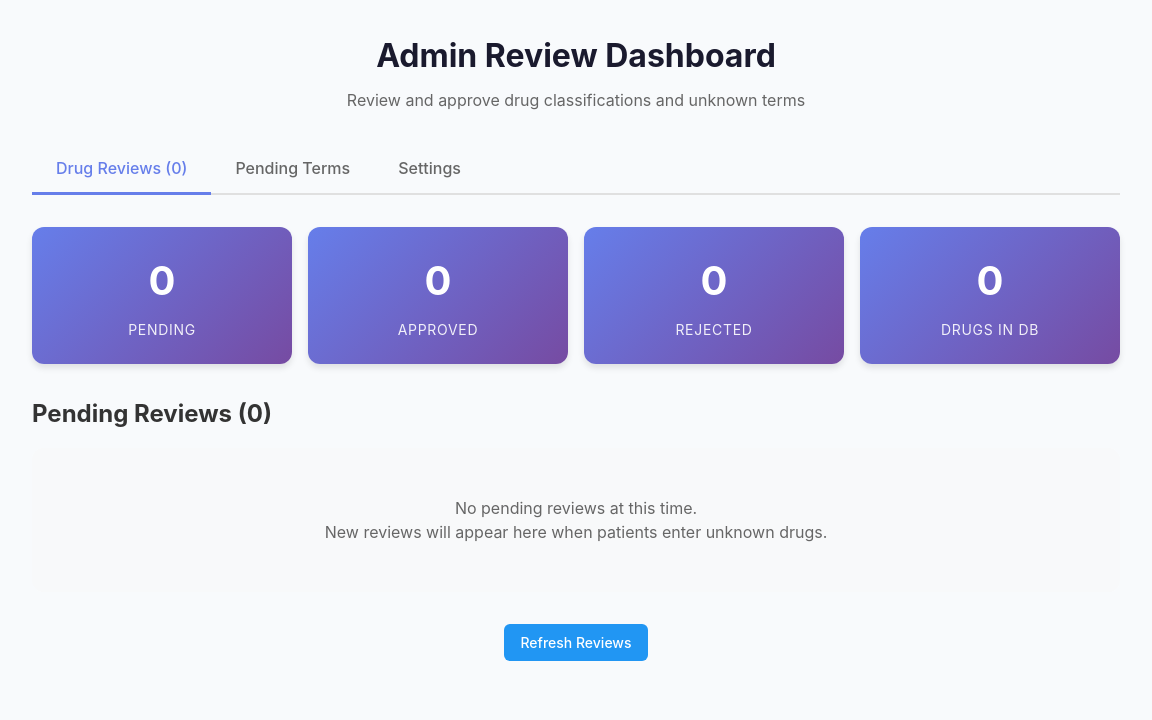
Test: Admin API Key Configuration - Integration Contract › Settings Tab in Admin Dashboard › should show API key configuration section when Settings tab is clicked
Note: Click Settings tab
Click the button "Settings": [430, 170] box [374,144,485,195]
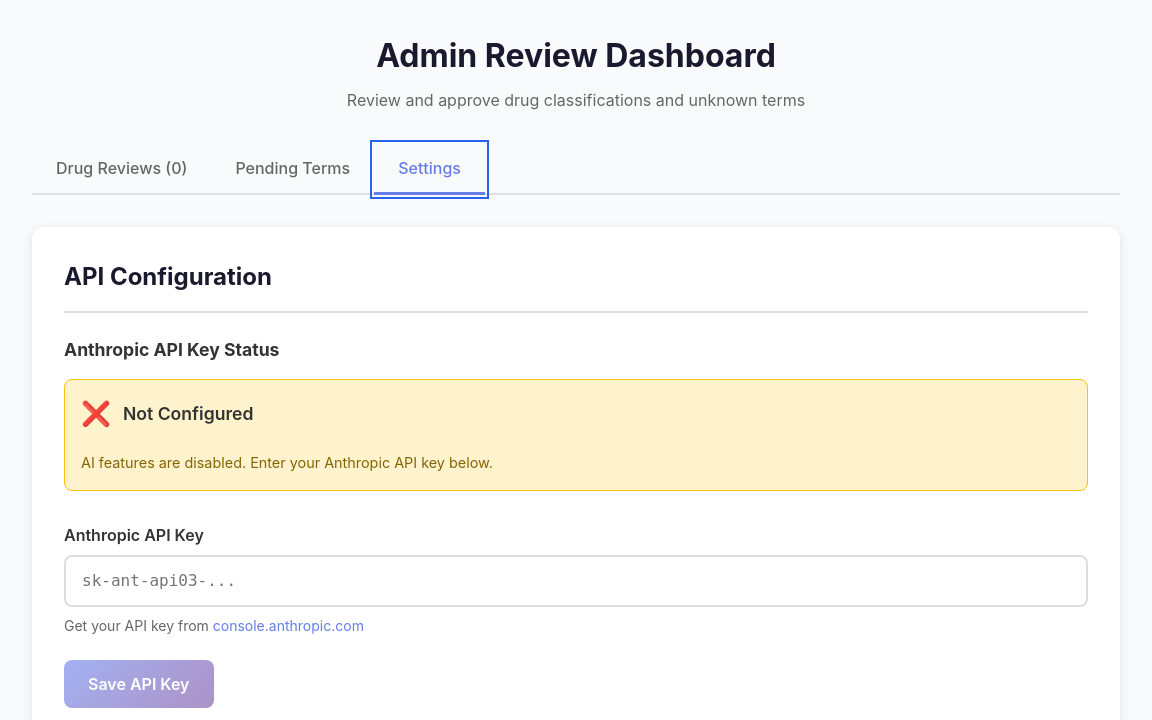
Result: the password field labelled "Anthropic API Key" is shown at [64,555,1088,607]
